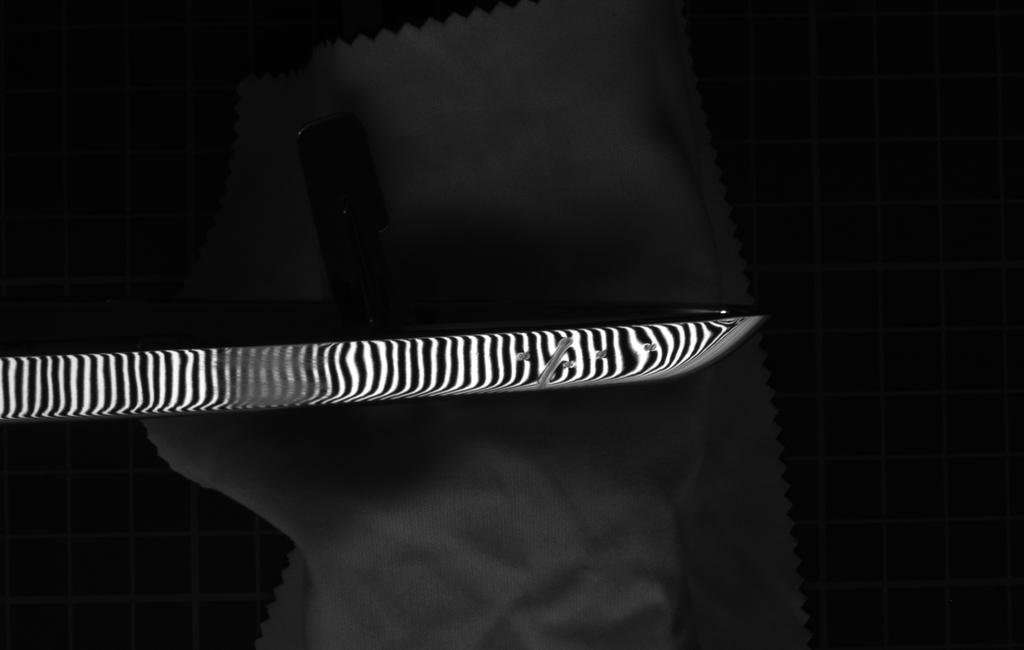Pierced: (511, 348, 540, 364), (638, 337, 662, 356), (591, 346, 614, 362), (558, 358, 579, 372)
Pitting: (207, 344, 345, 407)
Scratch: (530, 333, 573, 387)
